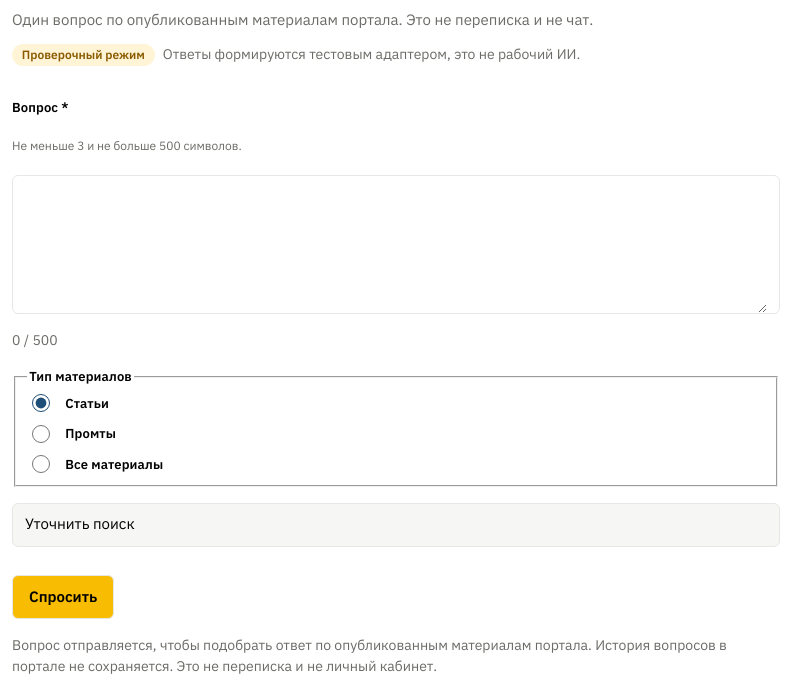
Test: assistant request lifecycle › new question clears answer and keeps filters
Click the radio button labelled "Промты".
click(41, 434)  # box [32,424,50,442]
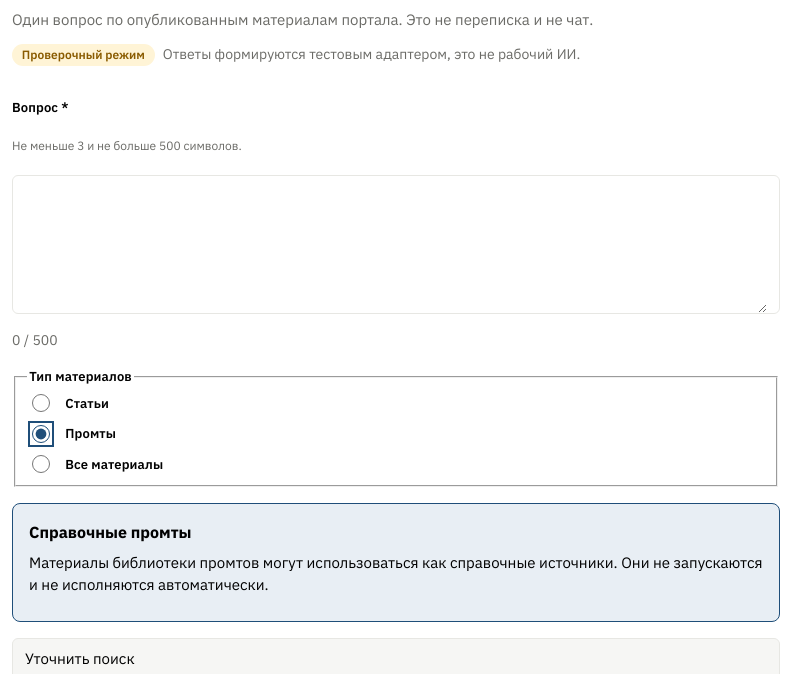
Type "Как оформить отпуск?" into the text box labelled "Вопрос *".
click(396, 245); type("Как оформить отпуск?")  # box [25,176,767,313]
(page scrolled)
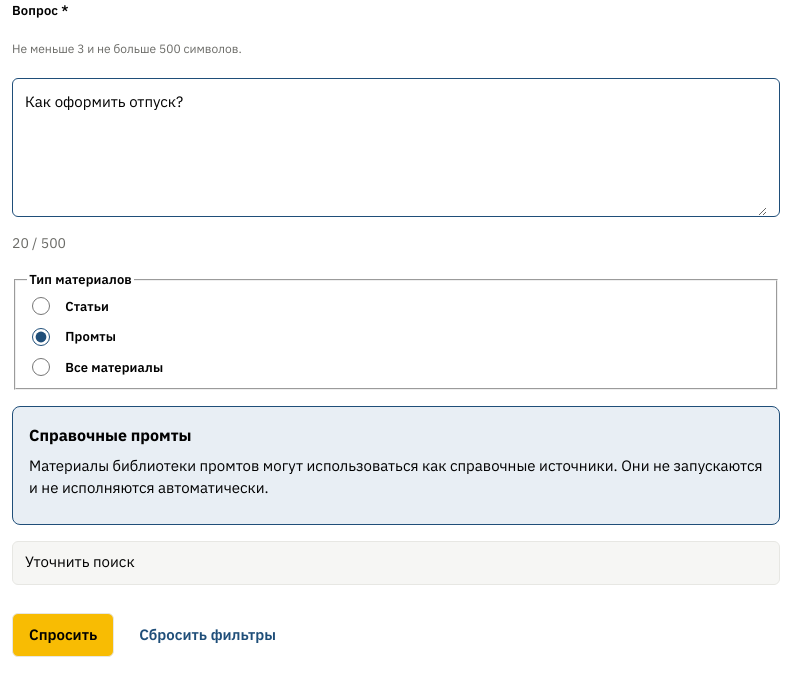
Click the button "Спросить".
click(63, 634)  # box [12,612,114,656]
(page scrolled)
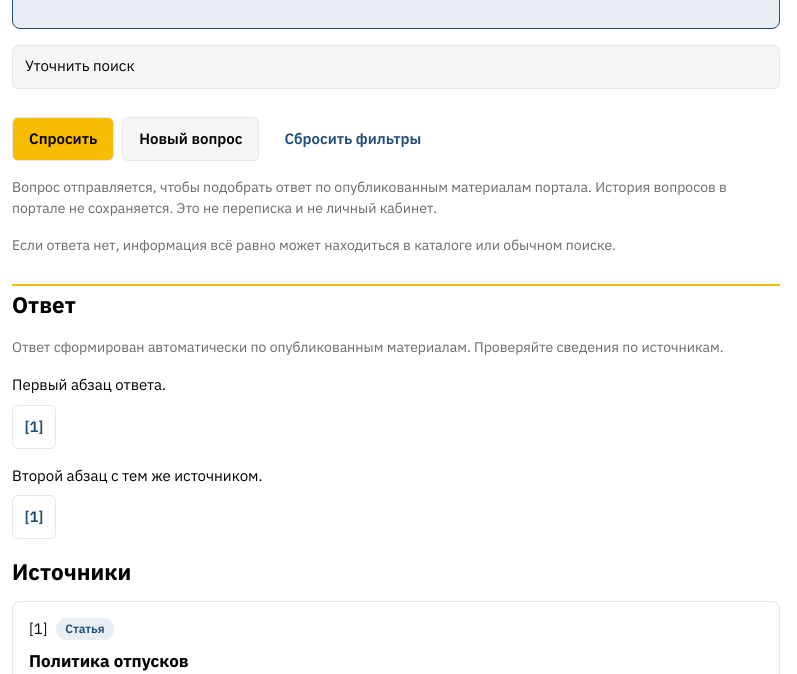
Result: the heading "Ответ" is shown at [12,290,76,318]
Click the button "Новый вопрос".
click(191, 138)  # box [122,116,259,160]
(page scrolled)
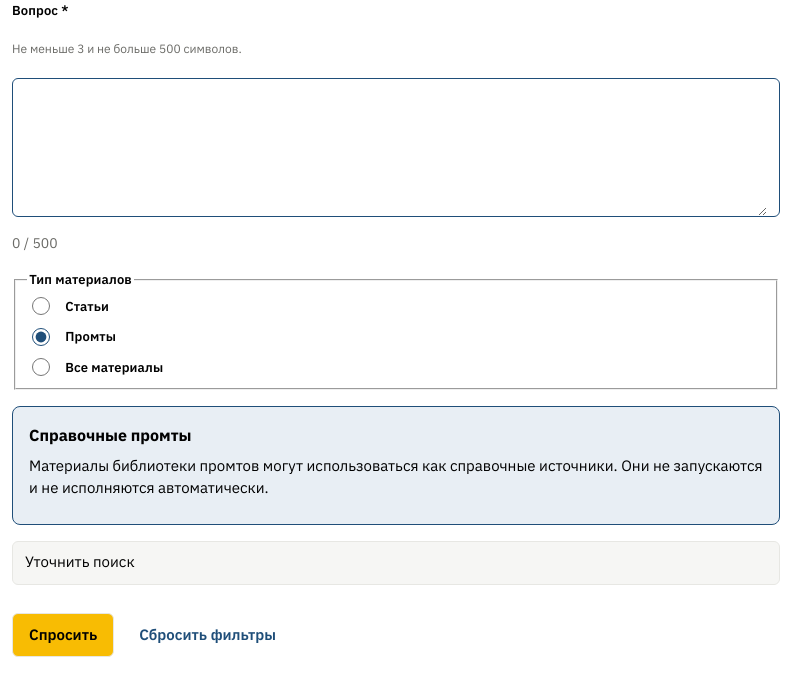
Result: the radio button labelled "Промты" is checked at [32,328,50,346]
Result: the text box labelled "Вопрос *" is empty at [25,79,767,216]
